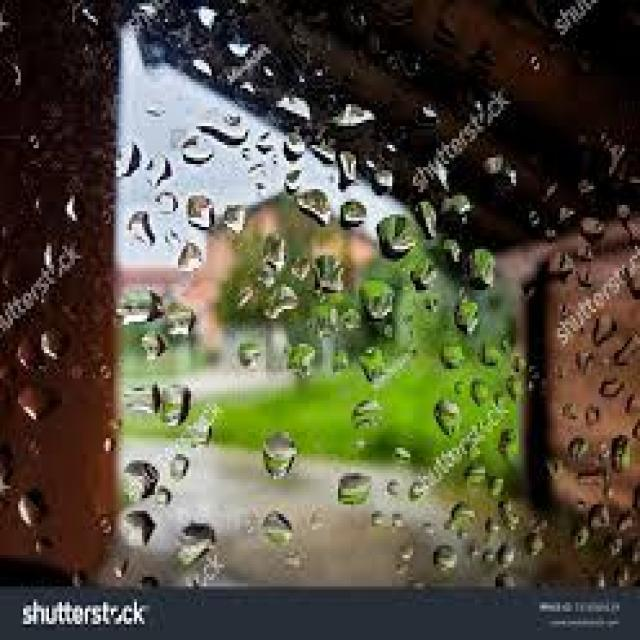raindrop: (352, 268, 412, 348), (157, 512, 226, 578), (110, 274, 166, 355), (258, 418, 310, 493), (424, 377, 478, 448), (368, 204, 427, 268), (113, 446, 169, 512), (110, 366, 164, 434), (182, 179, 234, 249), (454, 233, 506, 301), (250, 221, 300, 290), (328, 458, 378, 522), (110, 500, 156, 558), (178, 120, 225, 176)
